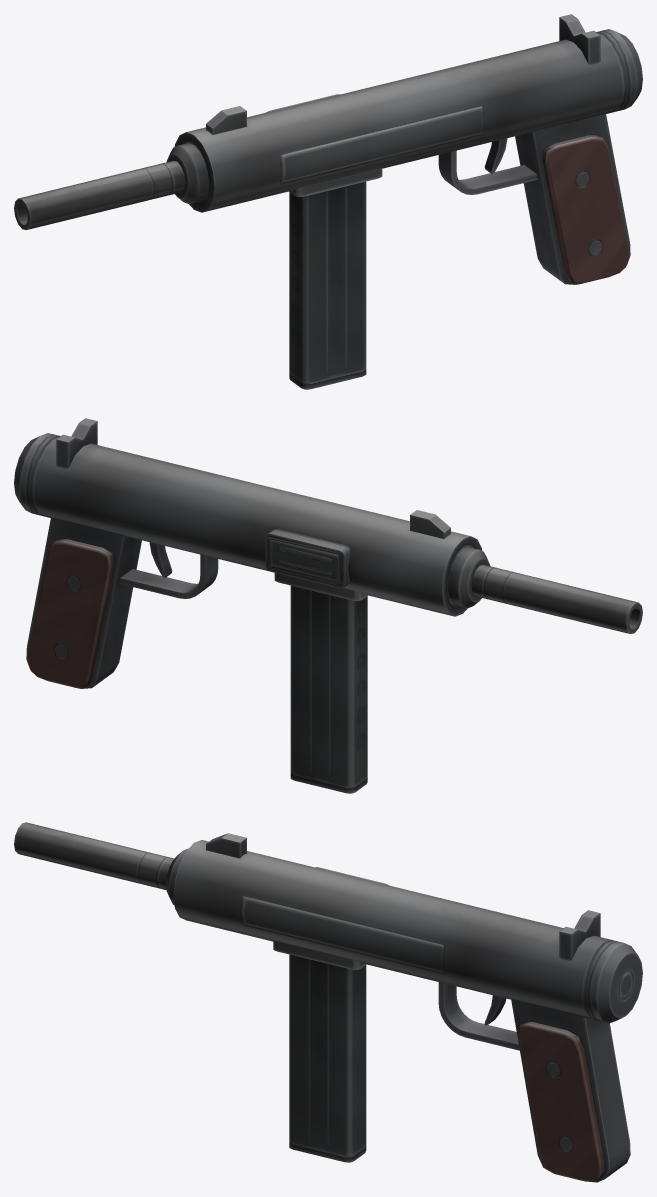
File: gun.FBX
The picture shows the model from 3 angles, top to bottom: view 1: azimuth 30°, elevation 25°; view 2: azimuth 150°, elevation 25°; view 3: azimuth 330°, elevation 25°; orthographic projection.
Visible parts, largest first — view 1: gun; view 2: gun; view 3: gun.
Part boxes in pixels (bbox=[...]): gun: bbox=[14, 14, 642, 389]; gun: bbox=[14, 418, 642, 793]; gun: bbox=[14, 822, 642, 1182].
Size of the model in its own units: 277 by 127 by 35.77.
Materials: 1 (1 with a texture image).
